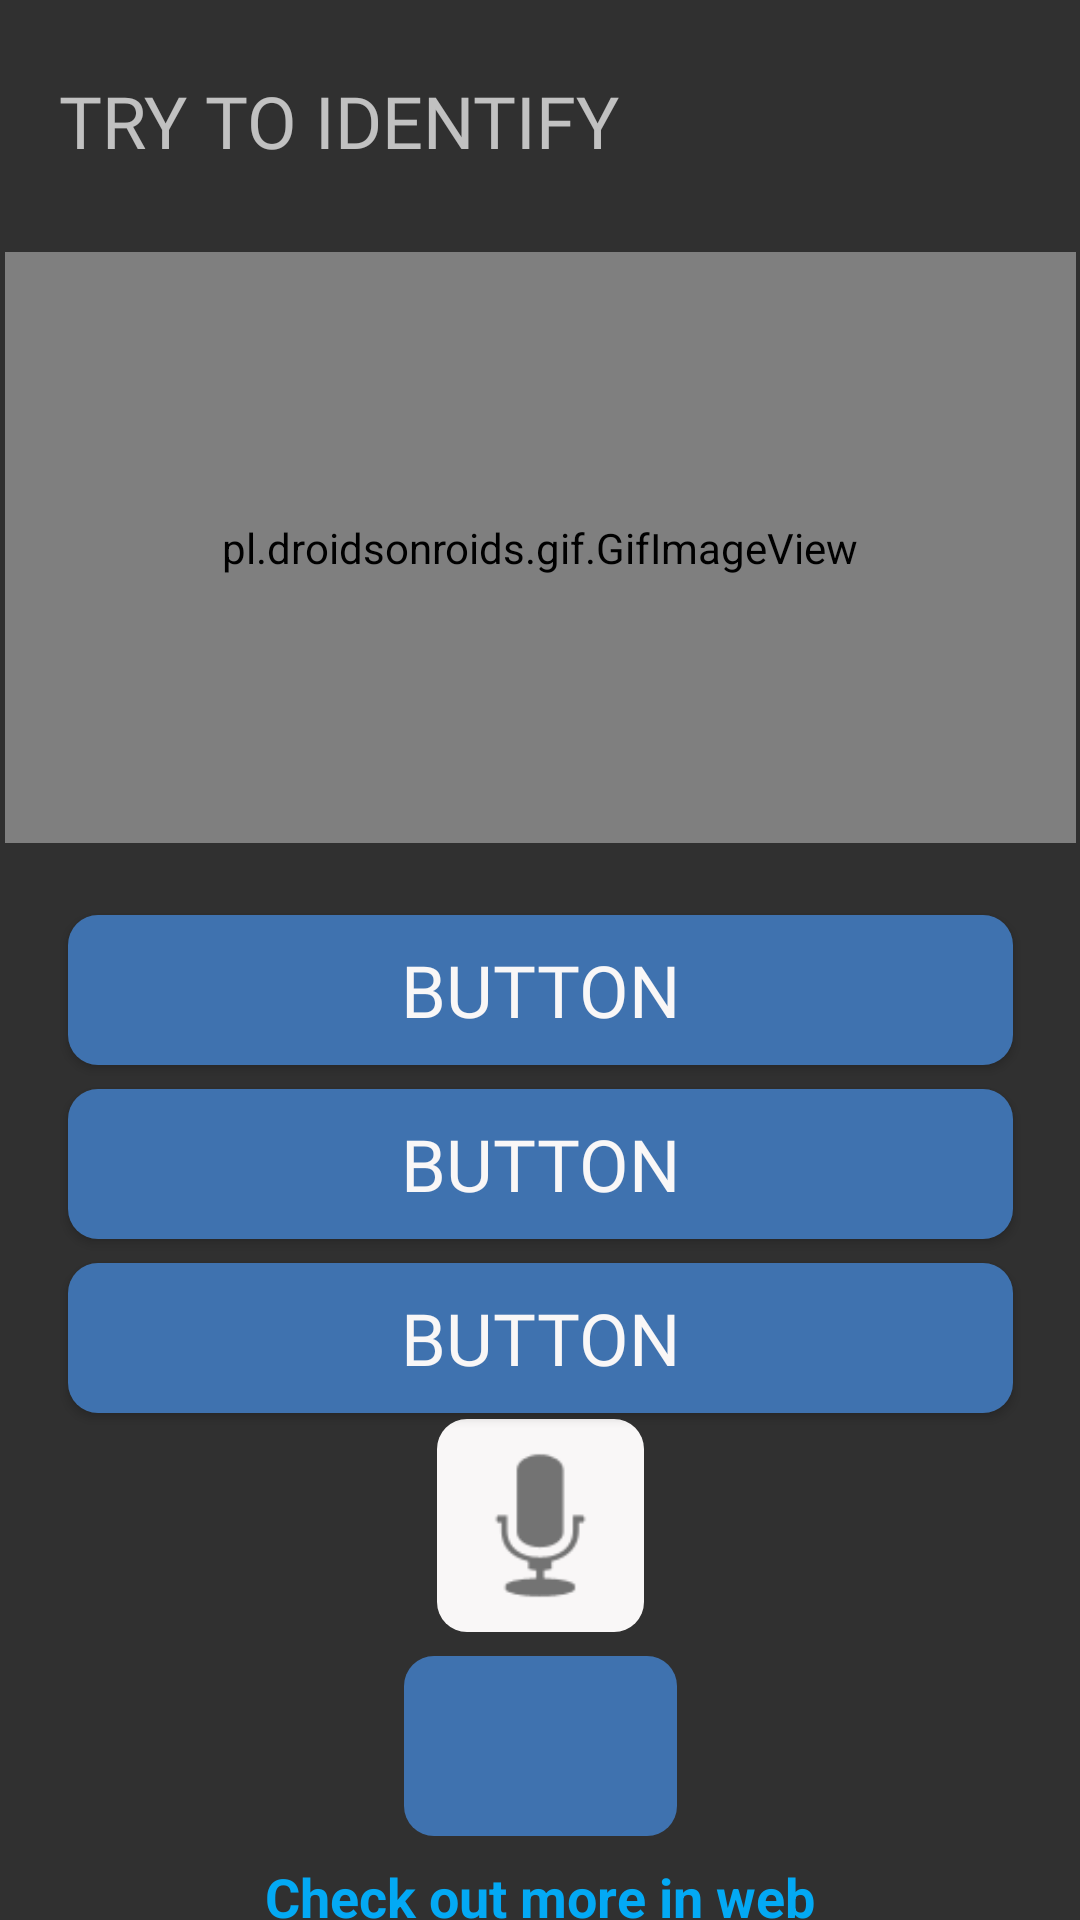

Locate icon controls on the screen. Image size 1080w x 1920h, boxes as (x1, y1, x2, y2).
speak now: (437, 1419, 644, 1632)
